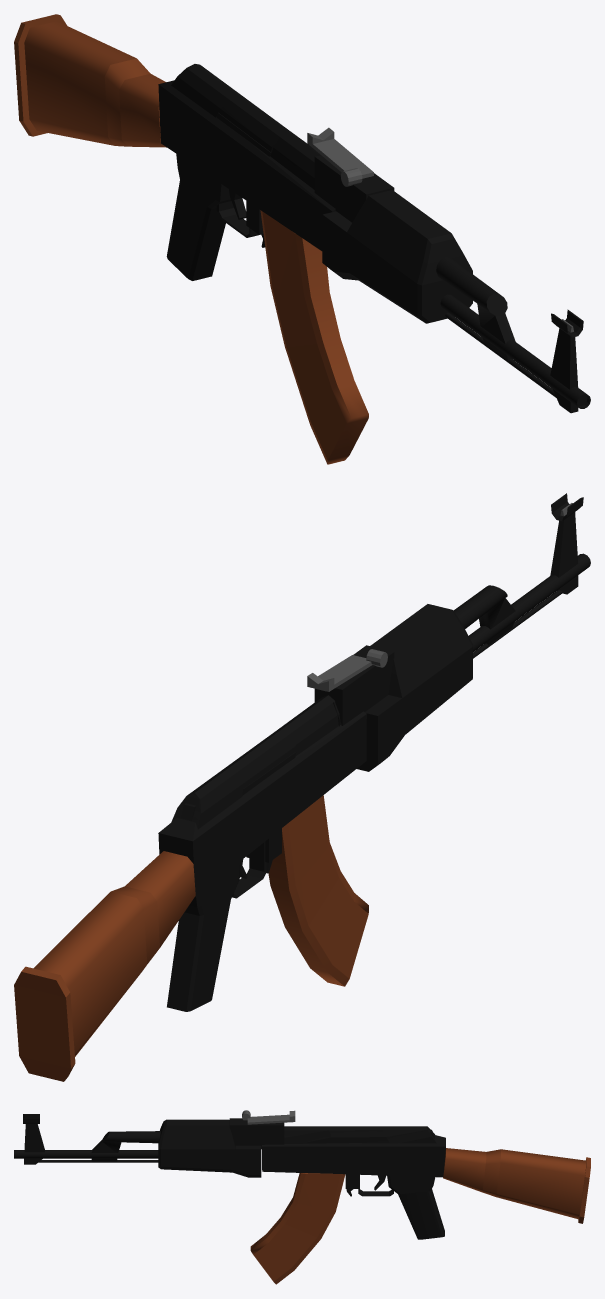
File: Gun.fbx
3 renders of one model, top to bottom at view 1: azimuth 30°, elevation 25°; view 2: azimuth 150°, elevation 25°; view 3: azimuth 270°, elevation 25°, orthographic. The views are drawn at different scales.
Parts seen in each view (by area): view 1: Gun; view 2: Gun; view 3: Gun.
Part boxes in pixels (bbox=[...]): Gun: bbox=[14, 14, 590, 464]; Gun: bbox=[14, 493, 590, 1081]; Gun: bbox=[14, 1110, 590, 1284].
Size of the model in its own units: 0.2504 by 4.26 by 1.38.
